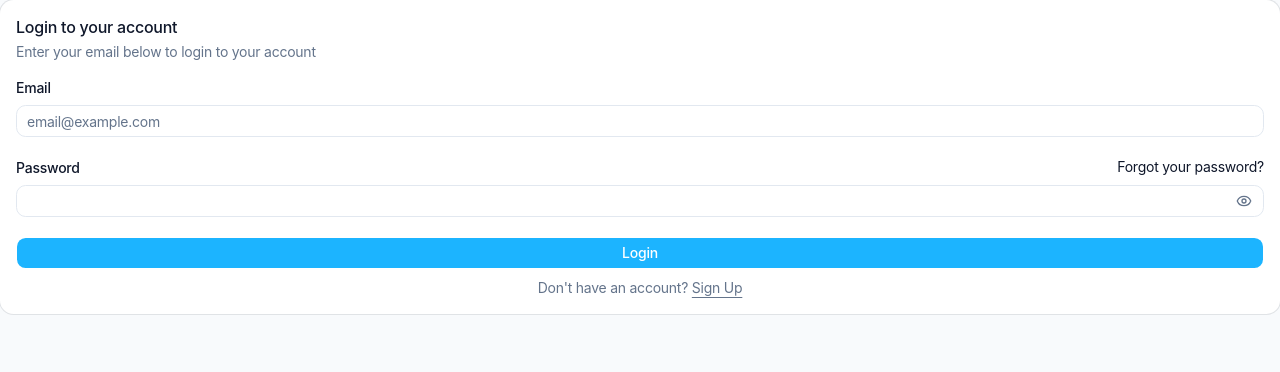
Scenario: LoginForm › shows the backend message when the response body is a plain string
Type "user@email.com" into the field labelled "Email".
click(640, 121); type("user@email.com")  # box 16,105 -> 1264,137
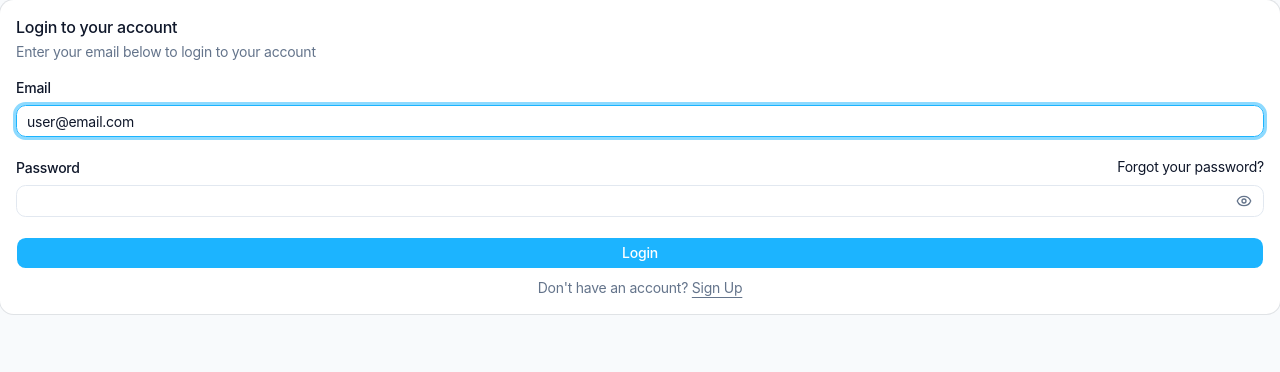
Type "Password@123" into the password field labelled "Password".
click(640, 201); type("Password@123")  # box 16,185 -> 1264,217
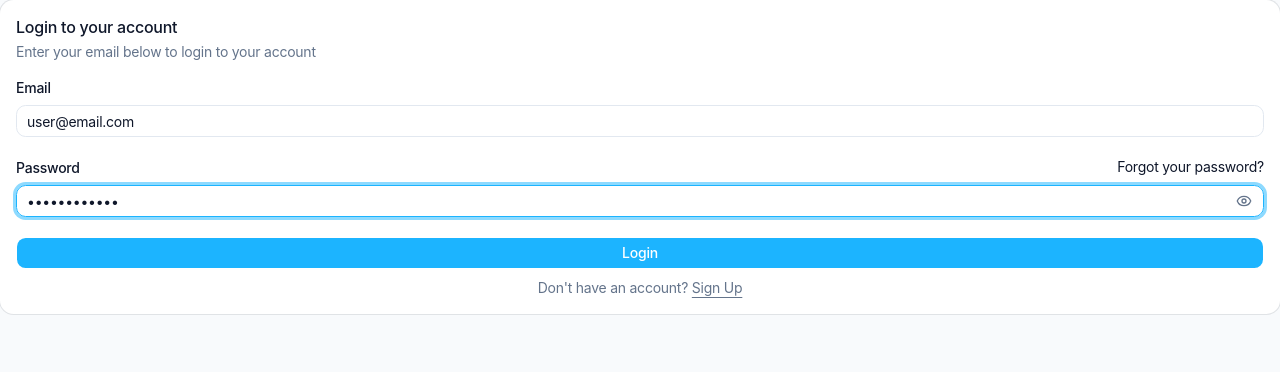
Click the button "Login".
click(640, 253)  # box 16,237 -> 1264,269
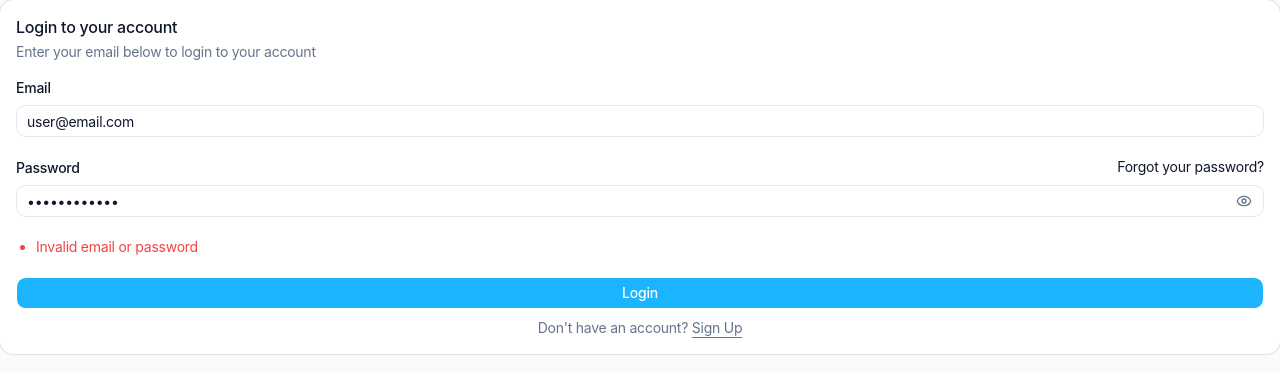
Result: the list item "Invalid email or password" is shown at 36,238 -> 198,255
